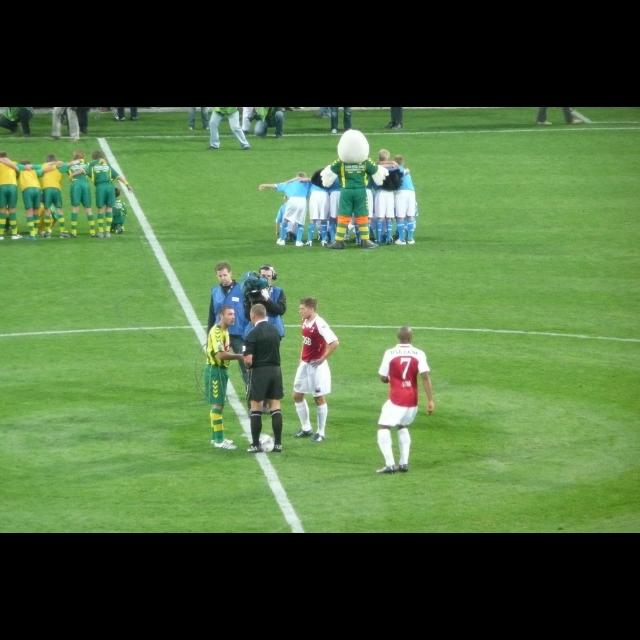Football: (260, 434, 276, 448)
